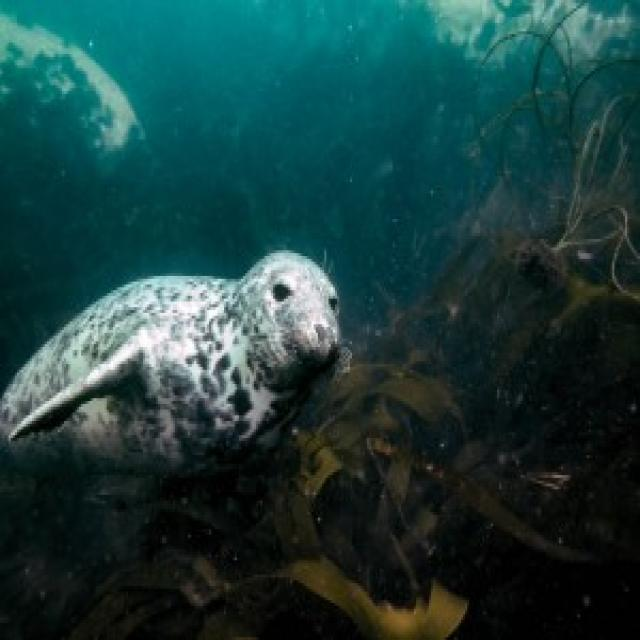Seal: (0, 245, 345, 514)
